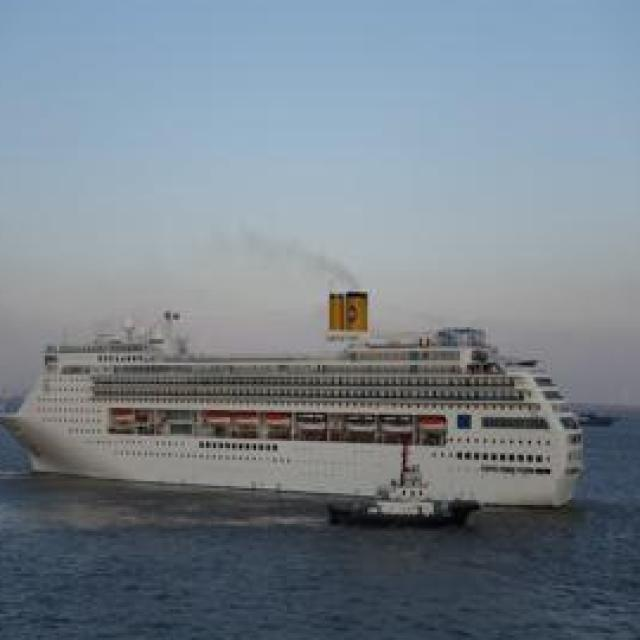cargoship: (324, 458, 481, 525)
passenger ship: (0, 280, 590, 490)
